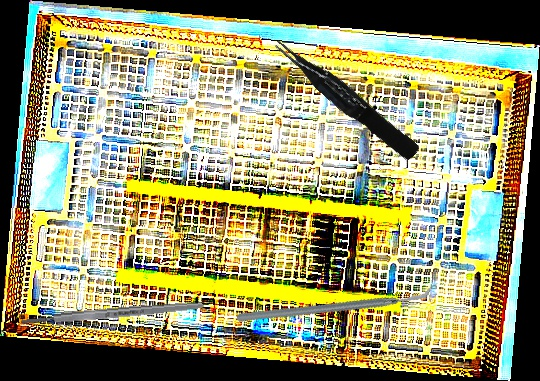Chopper: (235, 231, 436, 376)
Scalpel Handle: (19, 299, 206, 328)
Tissue Forceps: (271, 28, 421, 168)
